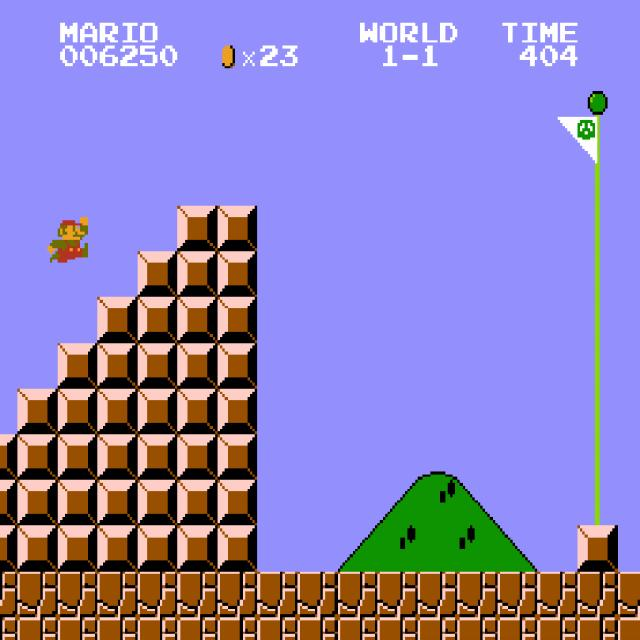goal_pole: (577, 114, 618, 160), (577, 160, 618, 206), (577, 297, 618, 343), (577, 434, 618, 480), (577, 480, 618, 526), (577, 69, 618, 114), (577, 206, 618, 251), (577, 252, 618, 297), (577, 343, 618, 388), (577, 389, 618, 434)
hard_block: (17, 434, 58, 480), (17, 480, 58, 526), (57, 434, 98, 480), (57, 480, 98, 526), (97, 297, 138, 343), (97, 434, 138, 480), (97, 480, 138, 526), (137, 297, 178, 343), (137, 434, 178, 480), (137, 480, 178, 526), (177, 297, 218, 343), (177, 434, 218, 480), (177, 480, 218, 526), (217, 297, 258, 343), (217, 434, 258, 480), (217, 480, 258, 526), (17, 389, 58, 434), (17, 526, 58, 571), (57, 343, 98, 388), (57, 389, 98, 434), (57, 526, 98, 571), (97, 343, 138, 388), (97, 389, 138, 434), (97, 526, 138, 571), (137, 252, 178, 297), (137, 343, 178, 388), (137, 389, 178, 434), (137, 526, 178, 571), (177, 206, 218, 251), (177, 252, 218, 297), (177, 343, 218, 388), (177, 389, 218, 434), (177, 526, 218, 571), (217, 206, 258, 251), (217, 252, 258, 297), (217, 343, 258, 388), (217, 389, 258, 434), (217, 526, 258, 571), (577, 526, 618, 571), (0, 525, 17, 571), (0, 434, 17, 479), (0, 480, 17, 525)
little_mario: (45, 214, 87, 263)
undestructible_block: (17, 572, 58, 617), (57, 572, 98, 617), (97, 572, 138, 617), (137, 572, 178, 617), (177, 572, 218, 617), (217, 572, 258, 617), (257, 572, 298, 617), (297, 572, 338, 617), (337, 572, 378, 617), (377, 572, 418, 617), (417, 572, 458, 617), (457, 572, 498, 617), (497, 572, 538, 617), (537, 572, 578, 617), (577, 572, 618, 617), (618, 572, 640, 617), (17, 617, 58, 640), (57, 617, 98, 640), (97, 617, 138, 640), (137, 617, 178, 640), (177, 617, 218, 640), (217, 617, 258, 640), (257, 617, 298, 640), (297, 617, 338, 640), (337, 617, 378, 640), (377, 617, 418, 640), (417, 617, 458, 640), (457, 617, 498, 640), (497, 617, 538, 640), (537, 617, 578, 640), (577, 617, 618, 640), (0, 571, 17, 617), (618, 617, 640, 640), (0, 617, 17, 639)
